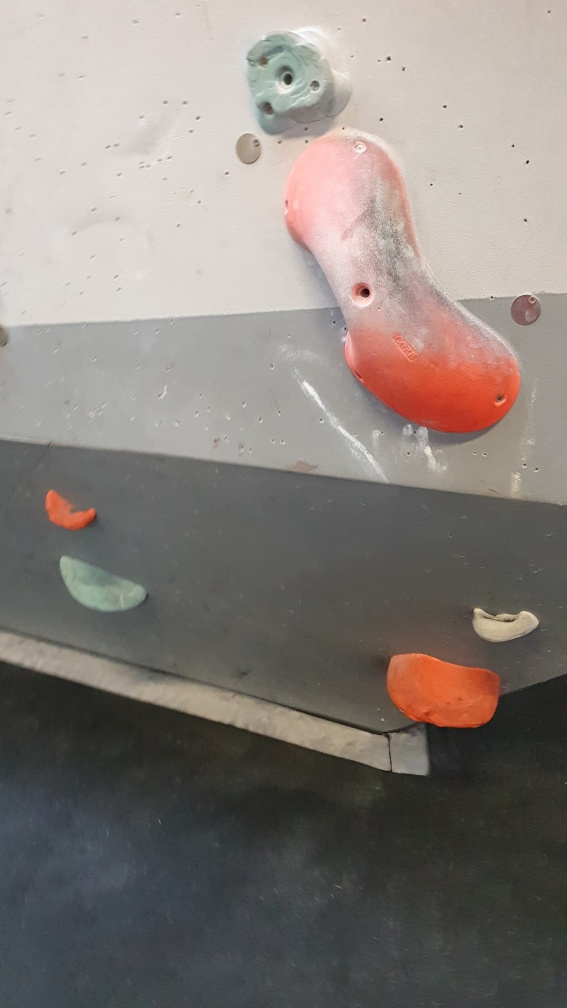Pinch: (283, 130, 523, 438)
